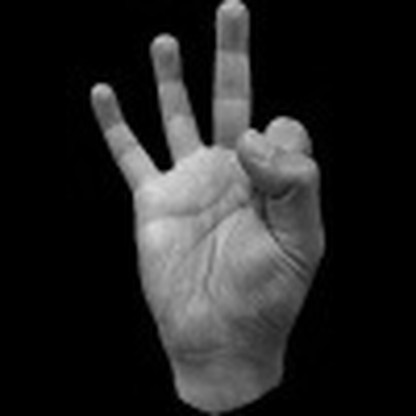f: (85, 1, 334, 365)
